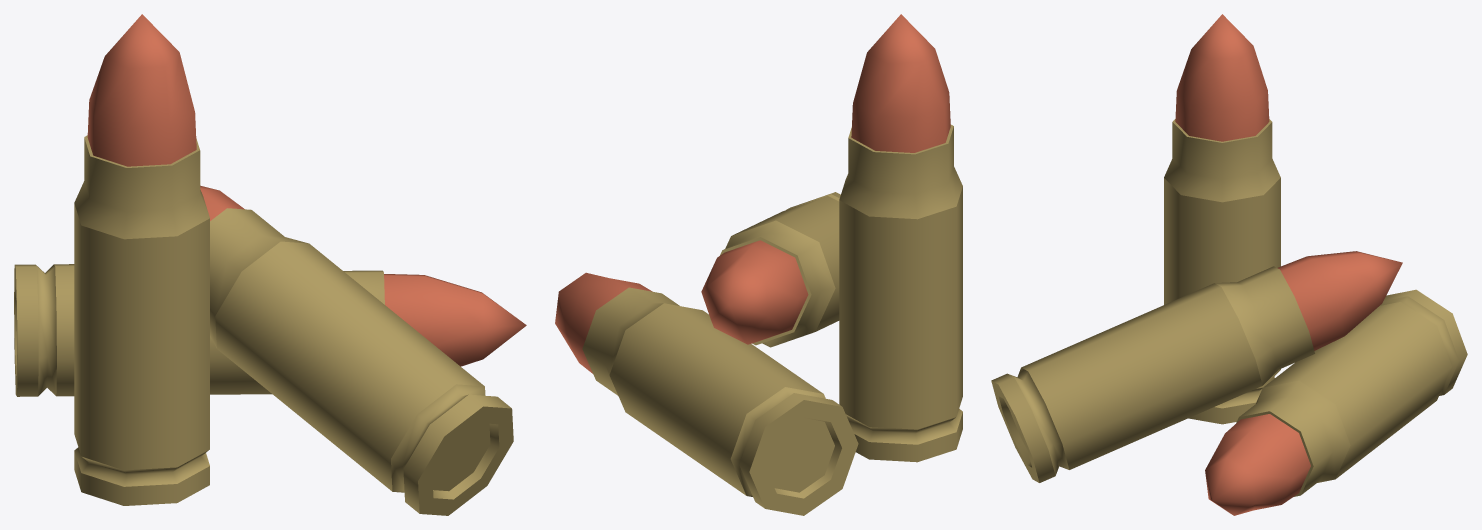
The model's file is bullets.fbx.
The picture shows the model from 3 angles, left to right: view 1: azimuth 30°, elevation 25°; view 2: azimuth 150°, elevation 25°; view 3: azimuth 270°, elevation 25°; orthographic projection. The views are drawn at different scales.
Visible parts, largest first — view 1: bullet; view 2: bullet; view 3: bullet.
Boxes of the visible parts, x1,y1,x2,y2 form: bullet: (14, 14, 526, 515); bullet: (555, 14, 962, 515); bullet: (991, 14, 1467, 515).
Size of the model in its own units: 6.22 by 6.28 by 7.01.
